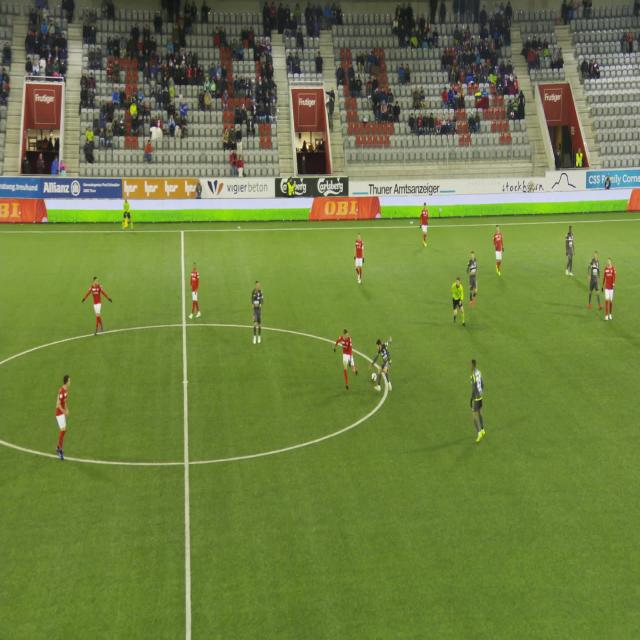Ball: (369, 366, 379, 388)
Player: (48, 368, 78, 460), (77, 272, 114, 341), (328, 321, 360, 395), (465, 355, 491, 444), (180, 258, 207, 328), (374, 332, 401, 398), (247, 281, 271, 349), (462, 253, 485, 320), (349, 228, 372, 286), (602, 252, 618, 332), (559, 219, 578, 286), (490, 221, 508, 283), (587, 248, 603, 313), (415, 196, 431, 247)
Referee: (448, 275, 469, 332), (120, 191, 133, 231)
